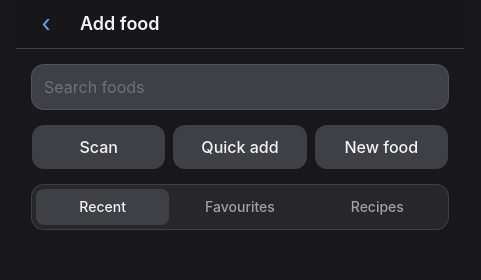
Test: the Recipes tab on Add food links to the recipe list
What coordinates should you click on to do the following:
click the tab "Recipes"
I would click on:
 (377, 207)
Its box is top-left (311, 189), bottom-right (444, 225).
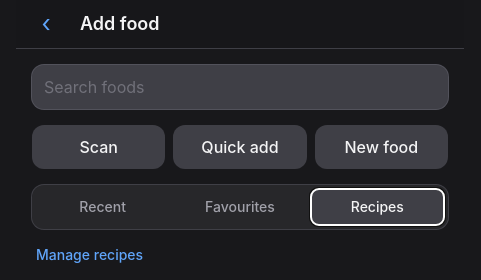
What coordinates should you click on to do the following:
click the link "Manage recipes"
I would click on:
 (90, 254)
Its box is top-left (36, 246), bottom-right (143, 263).
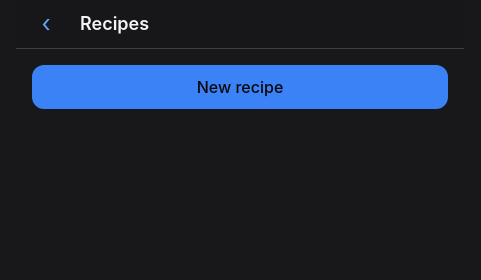
Now the heading "Recipes" is shown, box top-left (80, 13), bottom-right (149, 34)
